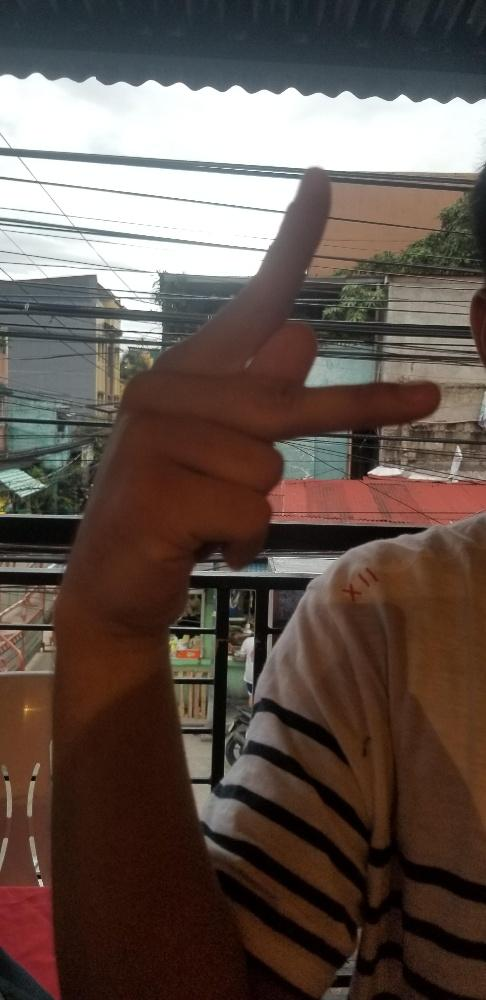k: (52, 165, 439, 627)
